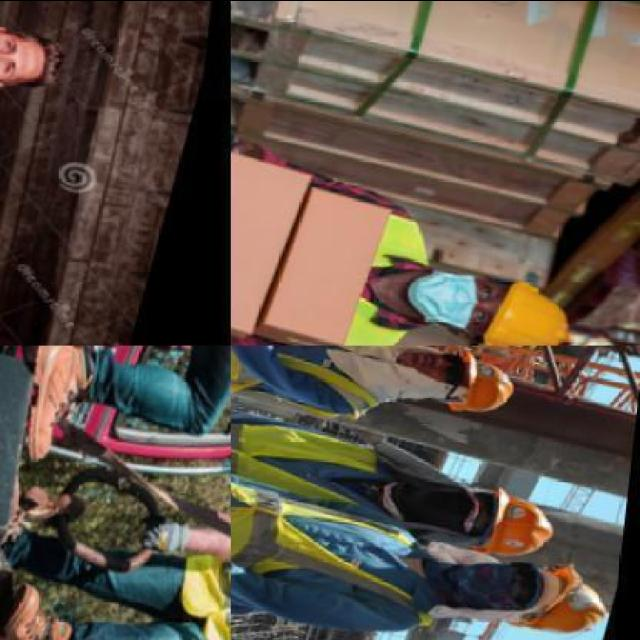helmet: (470, 472, 559, 564), (439, 344, 535, 424), (494, 270, 584, 354), (533, 554, 619, 640)
